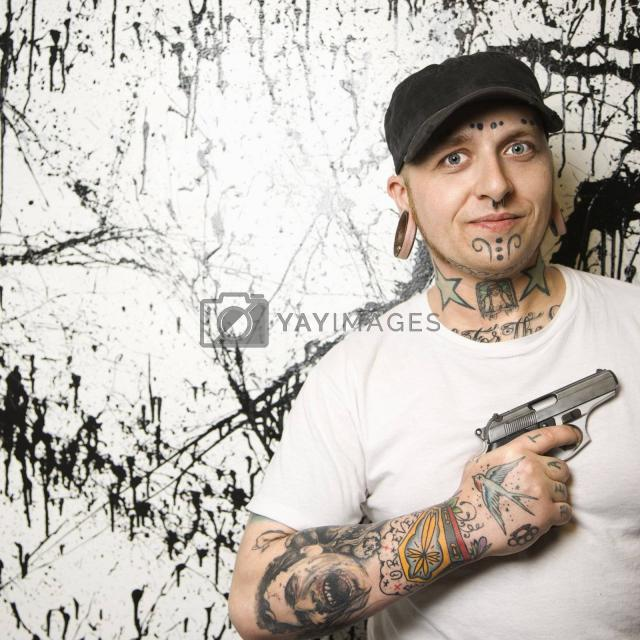HandGun: (475, 369, 620, 457)
